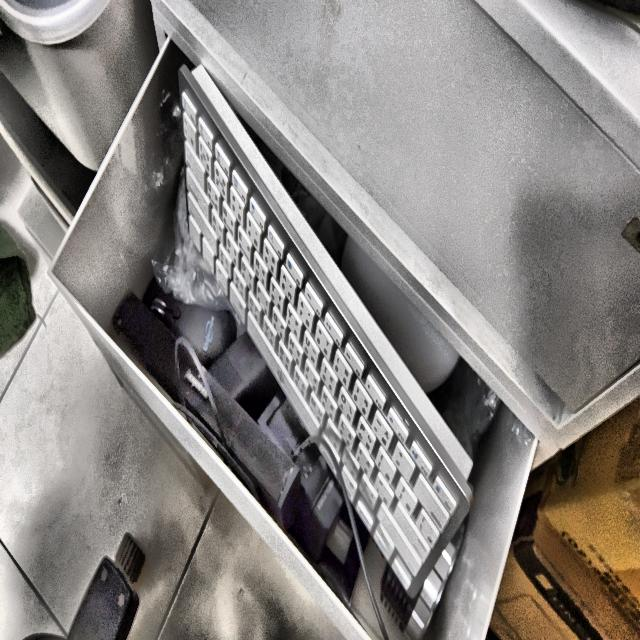Keyboard: (179, 65, 472, 596)
